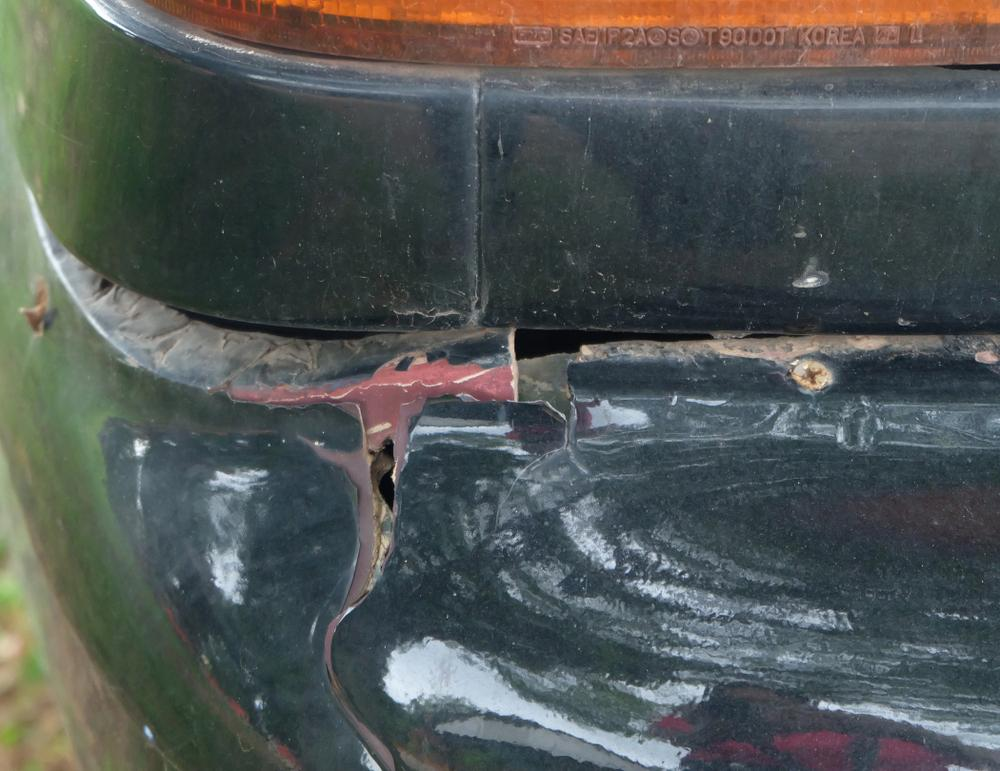crack: (492, 324, 796, 540), (318, 395, 430, 771)
